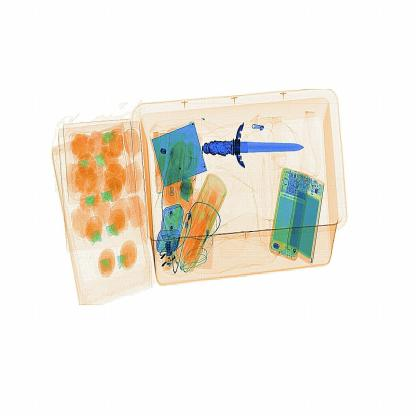wrench: (200, 114, 309, 166)
